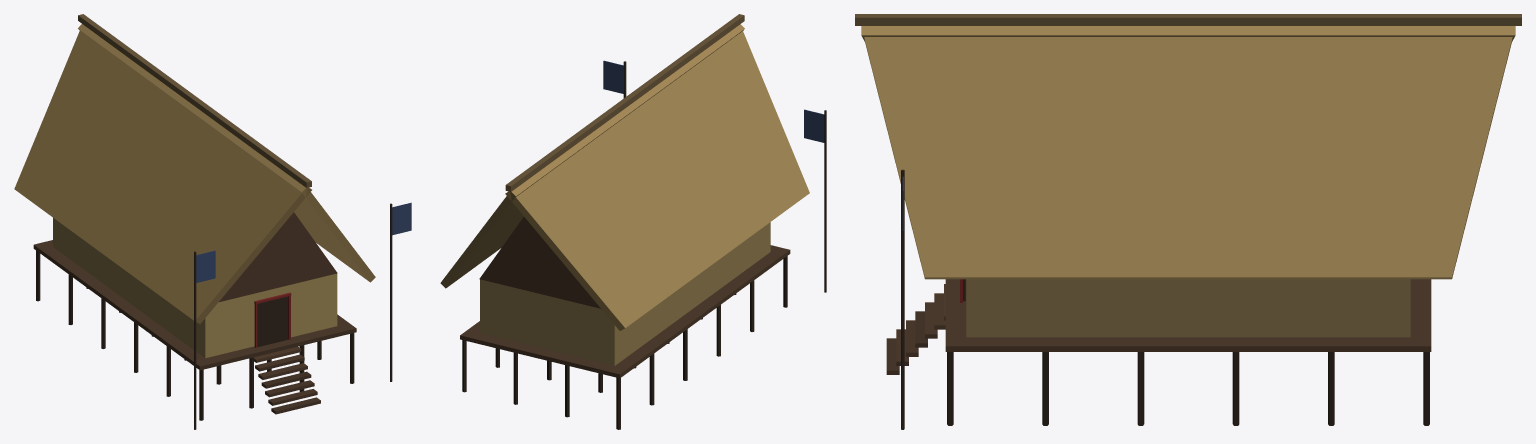
Rendered from tide_seat.glb.
3 views of the same model, side by side, from view 1: azimuth 30°, elevation 25°; view 2: azimuth 150°, elevation 25°; view 3: azimuth 270°, elevation 25° (orthographic). The views are drawn at different scales.
Visible parts, largest first — view 1: tide_seat; view 2: tide_seat; view 3: tide_seat.
Part boxes in pixels (x1,y1,x2,y2): tide_seat: (14,14,411,429); tide_seat: (440,14,826,429); tide_seat: (855,14,1521,429).
Bounding box in the file's own units: 11.56 × 12.34 × 21.
1 material, 1 textured.
